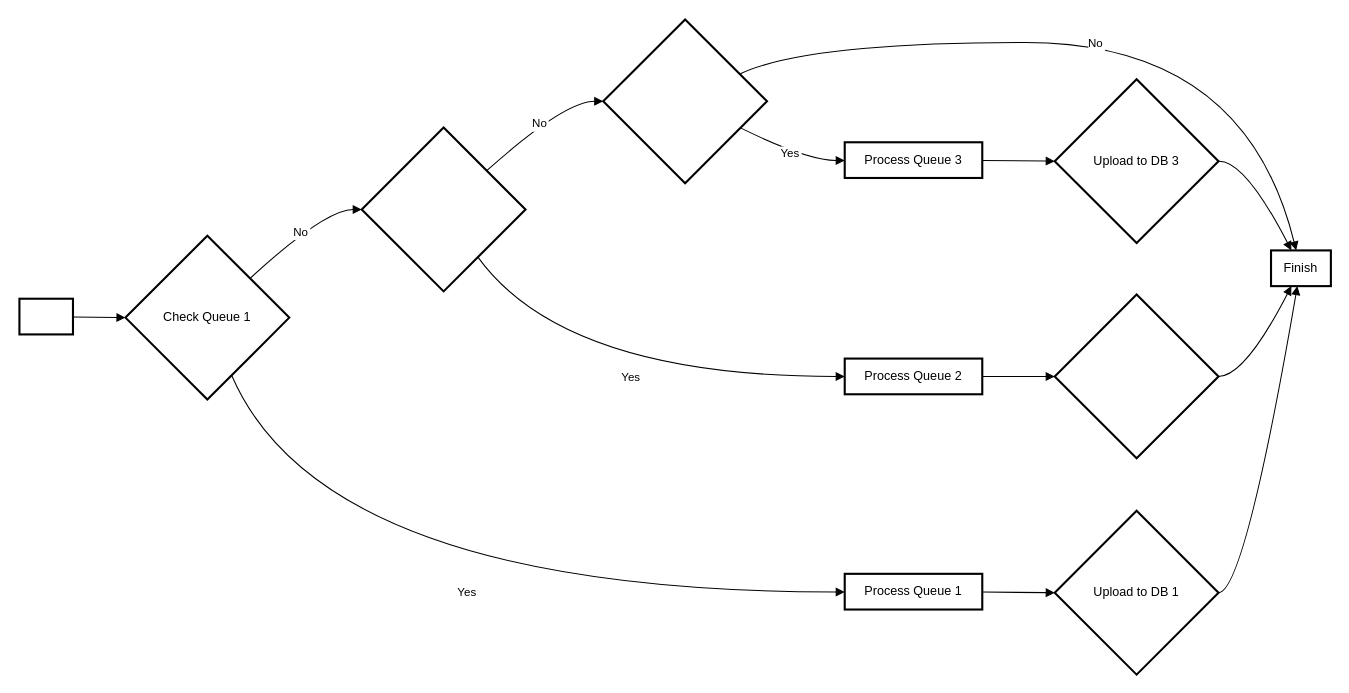
This 1349x693 diagram has some shape labels left out. The shapes that lost their labels are listed below. From the top down, each one's centre as x and y in pixels, then its label:
At (685,101): "Check Queue 3".
At (443,209): "Check Queue 2".
At (46,316): "Start".
At (1136,376): "Upload to DB 2".
